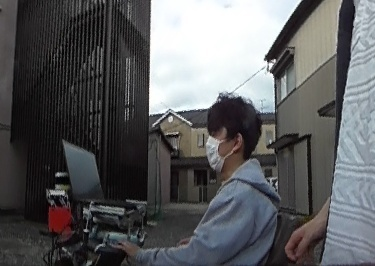person: (173, 86, 278, 266)
